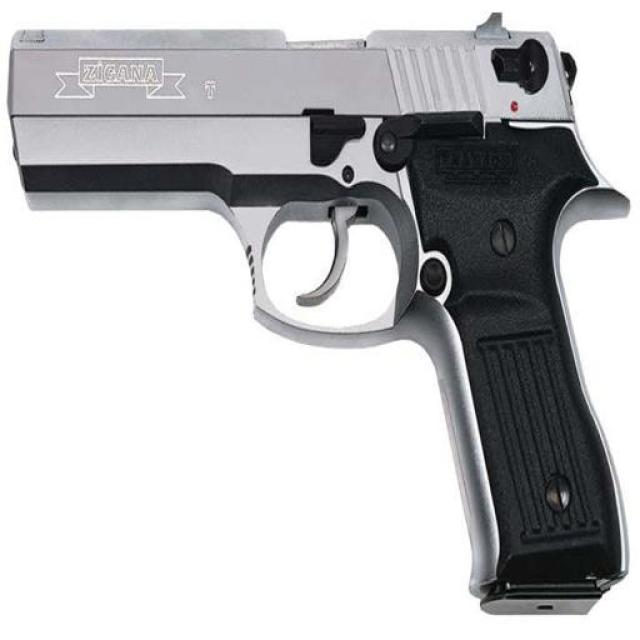pistol: (6, 10, 626, 616)
